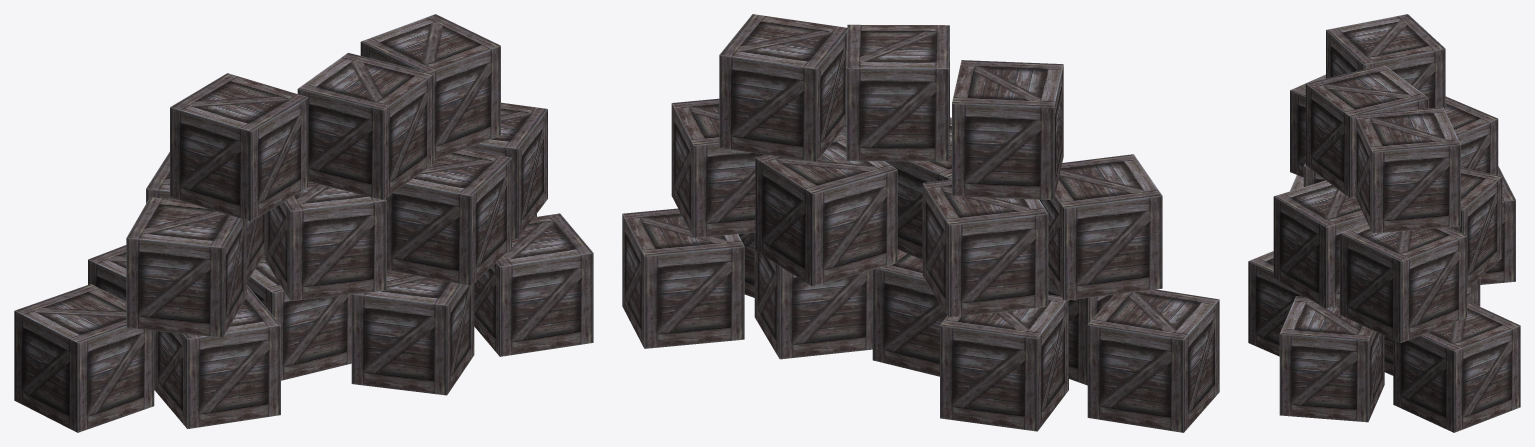
The model's file is Boxs.fbx.
3 renders of one model, left to right at view 1: azimuth 30°, elevation 25°; view 2: azimuth 150°, elevation 25°; view 3: azimuth 270°, elevation 25°, orthographic. The views are drawn at different scales.
Visible parts, largest first — view 1: Box; view 2: Box; view 3: Box.
Boxes of the visible parts, bbox=[...] form: Box: bbox=[14, 14, 593, 432]; Box: bbox=[622, 14, 1219, 432]; Box: bbox=[1248, 14, 1520, 432].
Bounding box in the file's own units: 1239 × 600 × 605.
